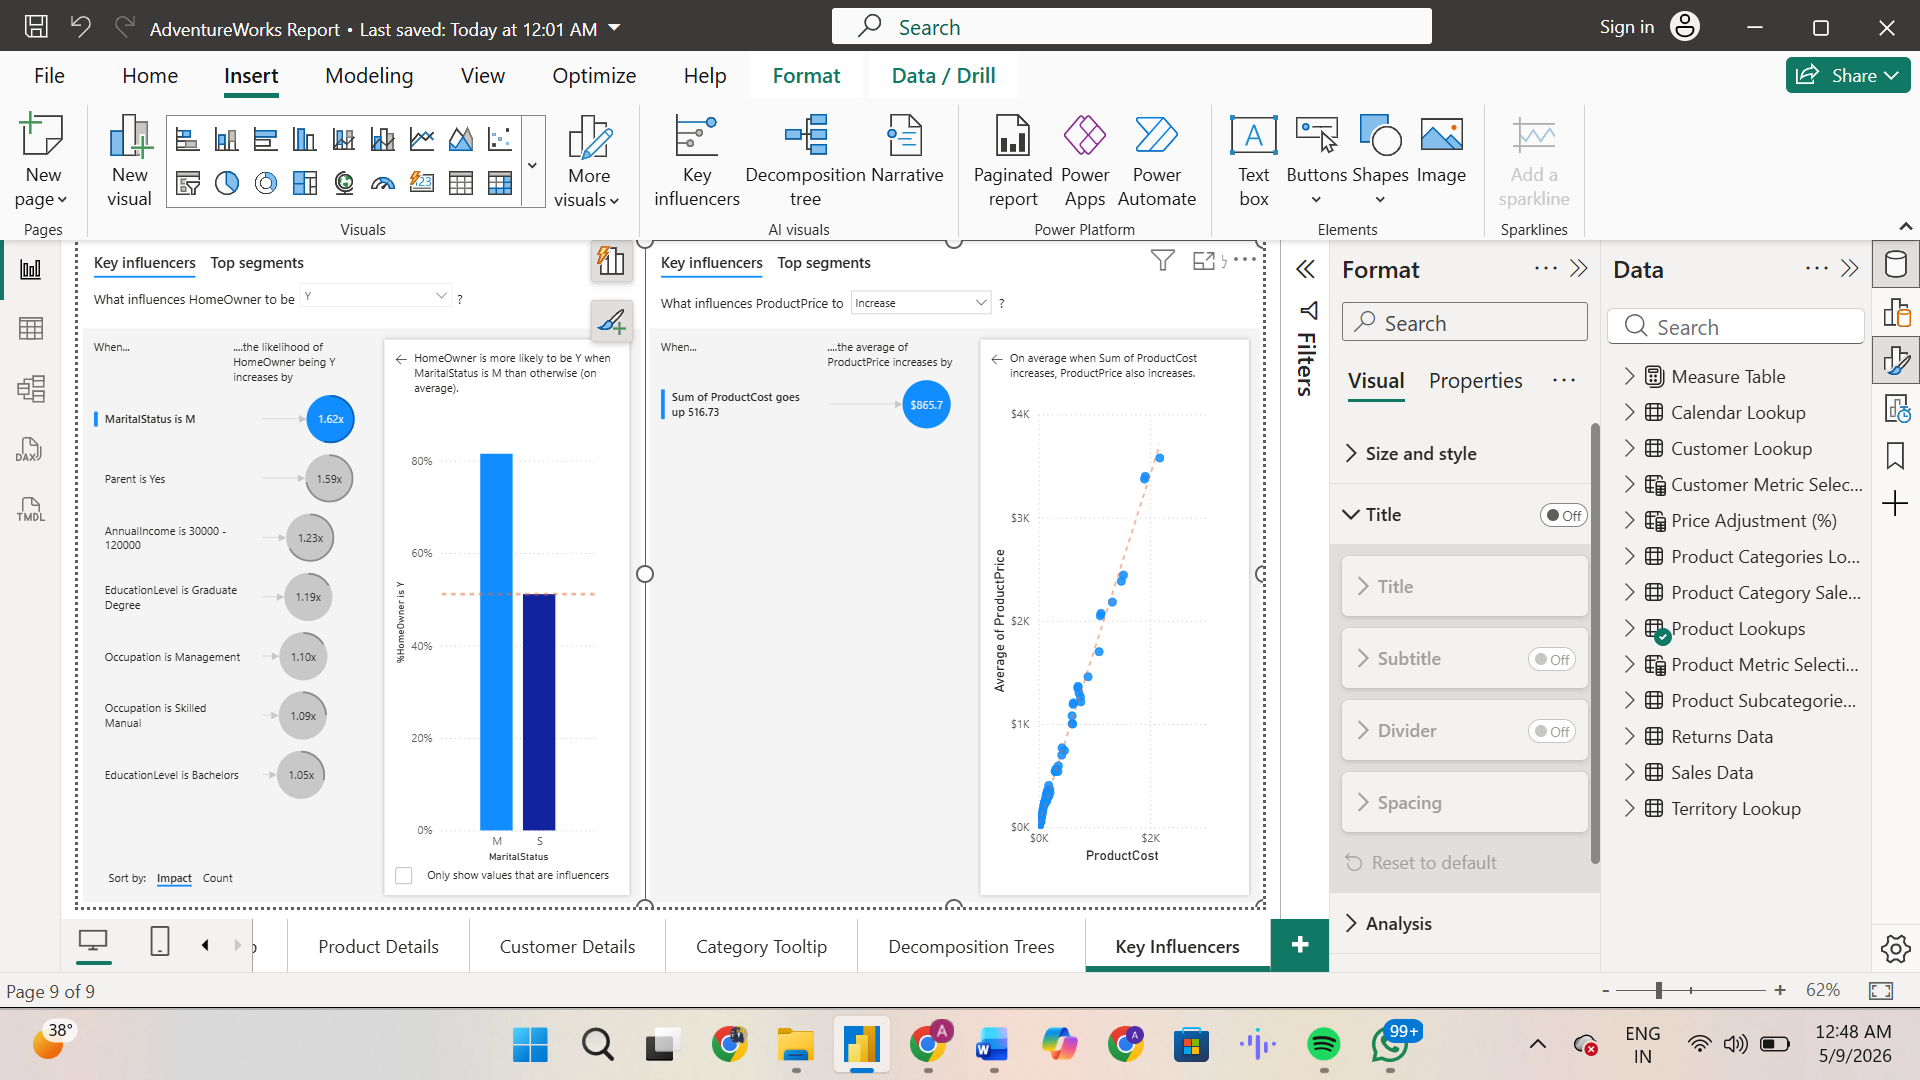

Layout of this report page (visuals, bound fields, positions):
{"tool":"powerbi","page":{"name":"Key Influencers","canvas":[1280,720],"ordinal":8},"visuals":[{"type":"keyDriversVisual","fields":{"Target":["Customer Lookup.HomeOwner"],"ExplainBy":["Customer Lookup.AnnualIncome","Customer Lookup.Occupation","Customer Lookup.MaritalStatus","Customer Lookup.EducationLevel","Customer Lookup.Parent"]},"box":[0,0,612,720],"z":0},{"type":"keyDriversVisual","fields":{"Target":["Product Lookups.ProductPrice"],"ExplainBy":["Sum(Product Lookups.ProductCost)"]},"box":[612.5,0,667.5,720],"z":1000}]}

Visuals, with their boxes on the page's 1280x720 design canvas (x1, y1, x2, y2). These are canvas units, not pixel positions in the 1920x1080 screenshot, which may show the page scaled, cropped or inside an application window:
keyDriversVisual - Customer Lookup.HomeOwner x Customer Lookup.AnnualIncome: bbox(0, 0, 612, 720)
keyDriversVisual - Product Lookups.ProductPrice x Sum(Product Lookups.ProductCost): bbox(612, 0, 1280, 720)
